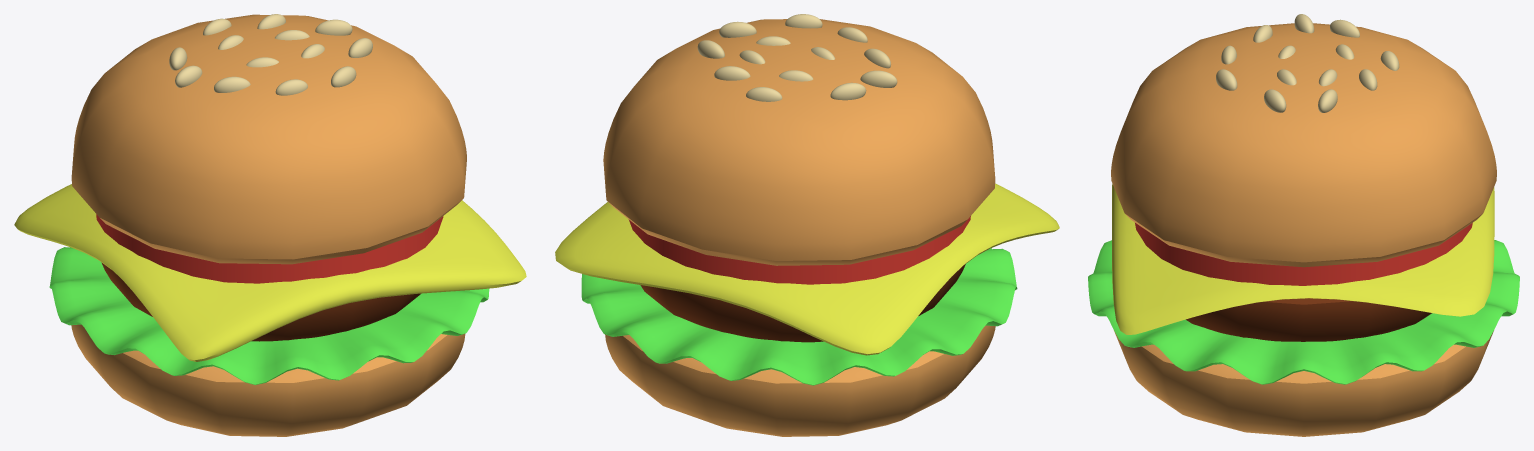
File: burger.fbx
The picture shows the model from 3 angles, left to right: view 1: azimuth 30°, elevation 25°; view 2: azimuth 150°, elevation 25°; view 3: azimuth 270°, elevation 25°; orthographic projection.
Parts seen in each view (by area): view 1: burger; view 2: burger; view 3: burger.
Part boxes in pixels (x1,y1,x2,y2): burger: (14,14,526,436); burger: (555,14,1059,436); burger: (1088,14,1519,436).
Bounding box in the file's own units: 50.63 × 43.78 × 50.63.
